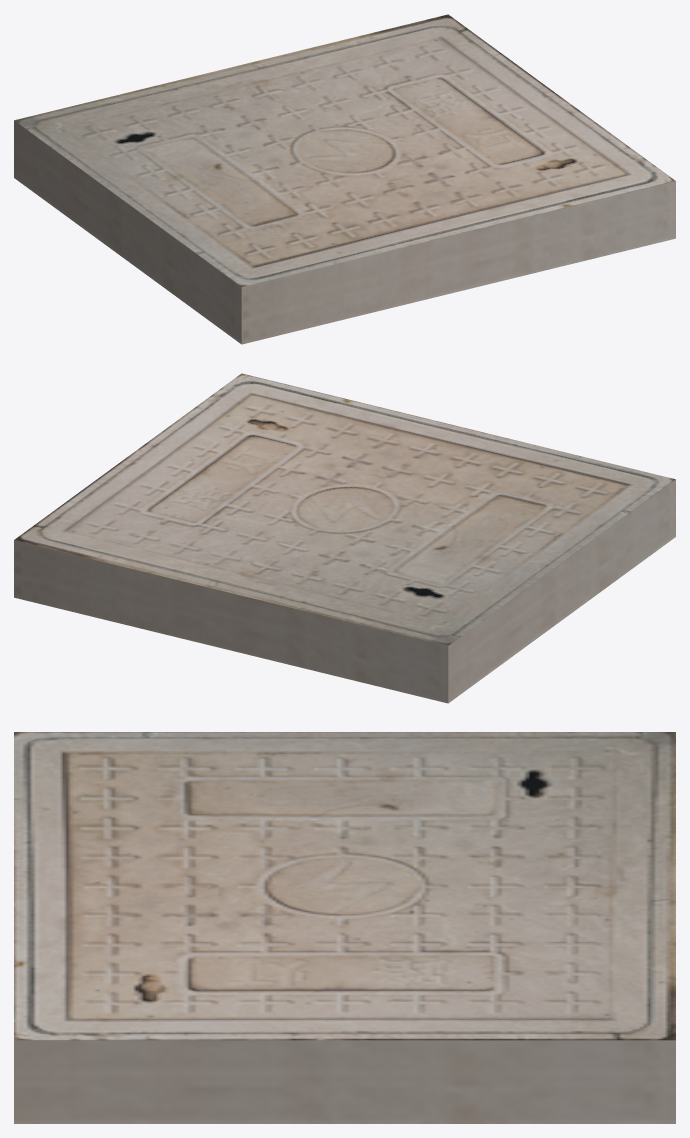
Rendered from jinggai_ludeng2.gltf.
The picture shows the model from 3 angles, top to bottom: view 1: azimuth 30°, elevation 25°; view 2: azimuth 150°, elevation 25°; view 3: azimuth 270°, elevation 25°; orthographic projection. The views are drawn at different scales.
Visible parts, largest first — view 1: ludengx02; view 2: ludengx02; view 3: ludengx02.
Boxes of the visible parts, x1,y1,x2,y2 form: ludengx02: [14, 14, 675, 344]; ludengx02: [14, 373, 675, 703]; ludengx02: [14, 732, 675, 1123].
Size of the model in its own units: 0.3158 by 0.04 by 0.2868.
Materials: 1 (1 with a texture image).
